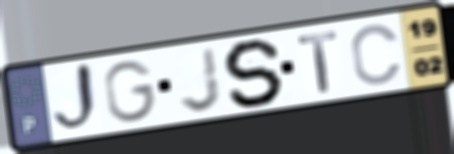C: (348, 21, 405, 88)
G: (101, 58, 160, 125)
J: (49, 59, 104, 138), (176, 44, 225, 115)
S: (220, 37, 287, 109)
T: (295, 28, 341, 95)
